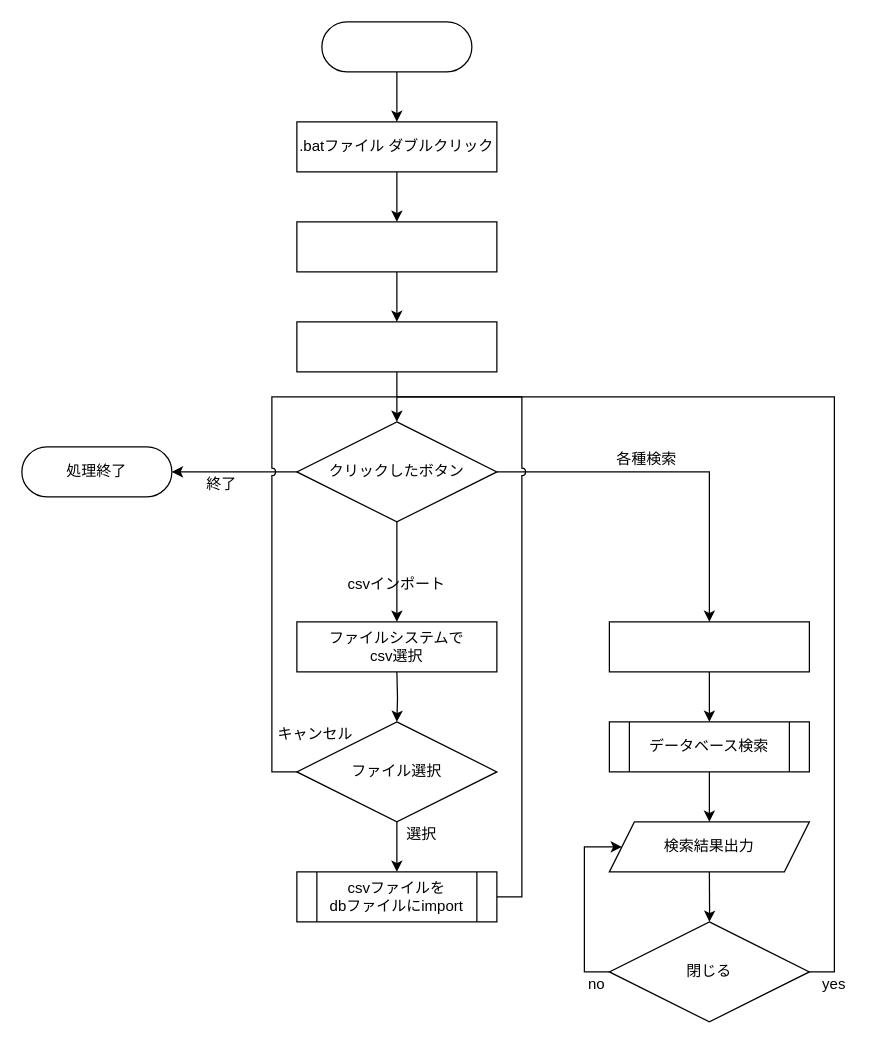
This 881x1044 diagram has some shape labels left out. Here are the shapes that lost their labels. From the top down, the centre of each, then its label:
At point (396, 46): "処理開始".
At point (396, 246): "gui_data.py実行".
At point (396, 346): "GUI表示".
At point (708, 646): "キーワード入力画面表示".
